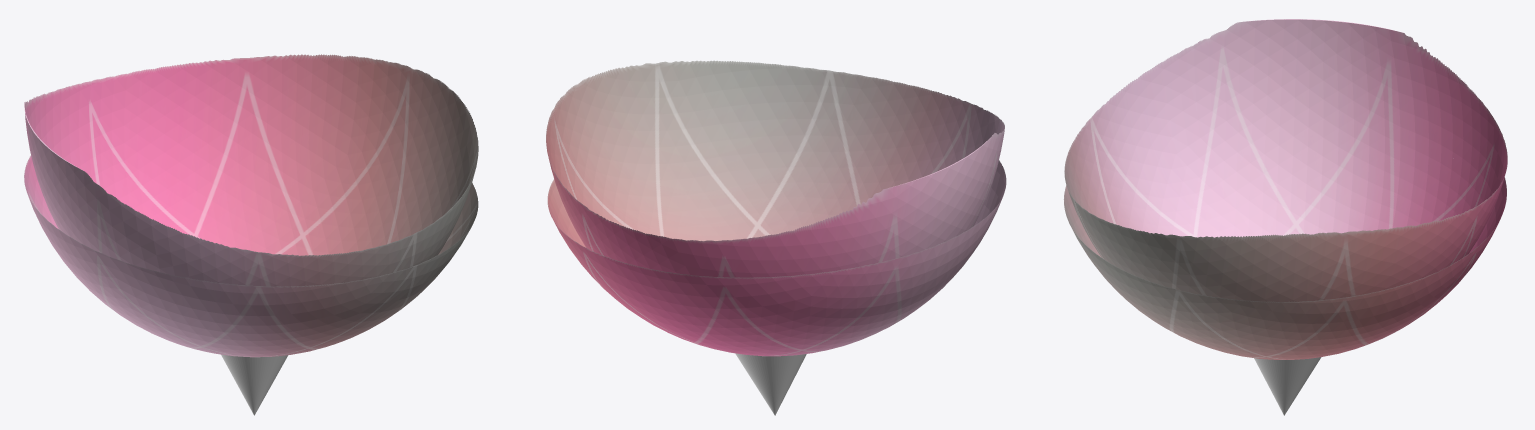
File: obj_capsule_bottom.obj
The picture shows the model from 3 angles, left to right: view 1: azimuth 30°, elevation 25°; view 2: azimuth 150°, elevation 25°; view 3: azimuth 270°, elevation 25°; orthographic projection. The views are drawn at different scales.
Parts seen in each view (by area): view 1: Object.4, Object.1; view 2: Object.4, Object.1; view 3: Object.4, Object.1.
Boxes of the visible parts, left/top/right/bottom form: Object.4: left=24, top=54, right=478, bottom=357; Object.1: left=221, top=354, right=287, bottom=415; Object.4: left=546, top=60, right=1006, bottom=356; Object.1: left=735, top=353, right=806, bottom=415; Object.4: left=1063, top=19, right=1507, bottom=359; Object.1: left=1254, top=357, right=1321, bottom=415.
Bounding box in the file's own units: 23.96 × 16.93 × 23.97.
Materials: 3 (1 with a texture image).
